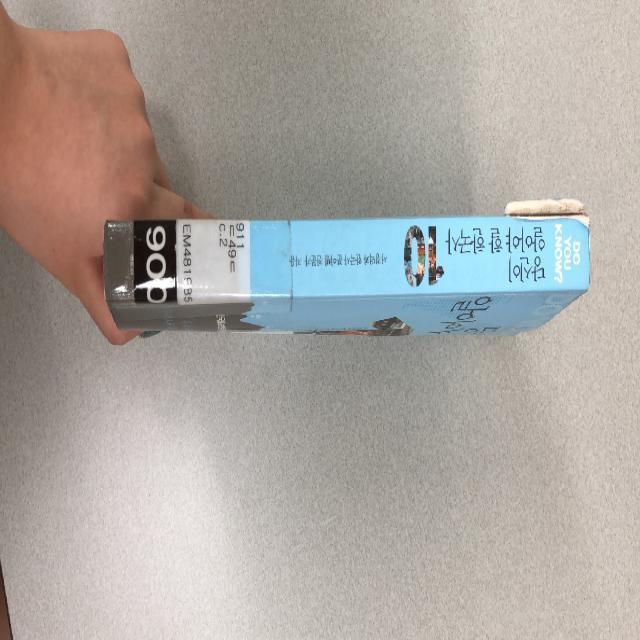Ripped: (502, 197, 592, 231)
Wornout: (580, 232, 595, 300), (99, 267, 115, 311)
